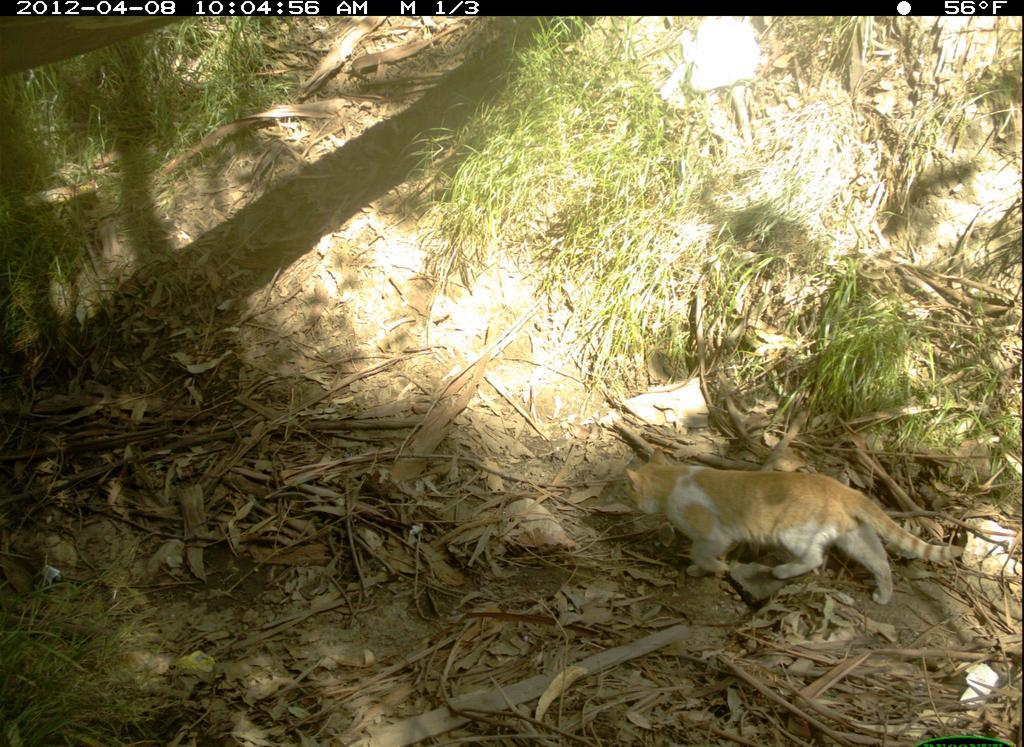cat: (616, 437, 975, 609)
